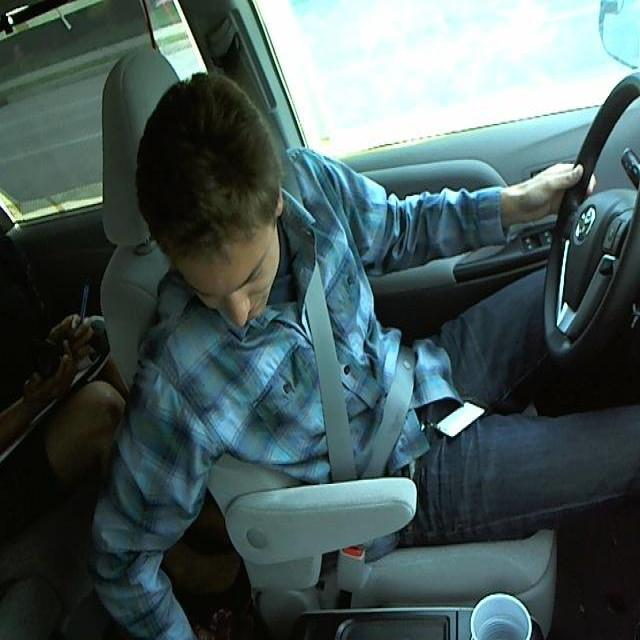seatbelt: (288, 203, 414, 472)
